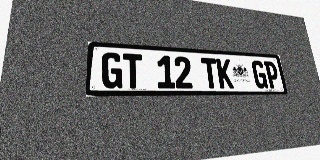1: (156, 55, 175, 88)
2: (174, 56, 193, 88)
G: (101, 52, 122, 88), (251, 60, 268, 88)
K: (216, 58, 234, 88)
P: (264, 61, 281, 88)
T: (123, 53, 143, 88), (201, 58, 219, 88)
